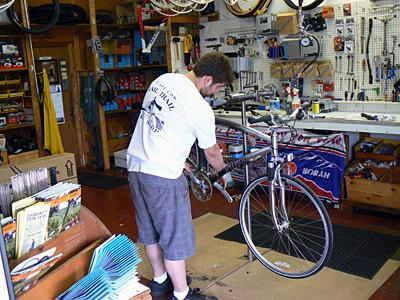person: (121, 49, 232, 300)
